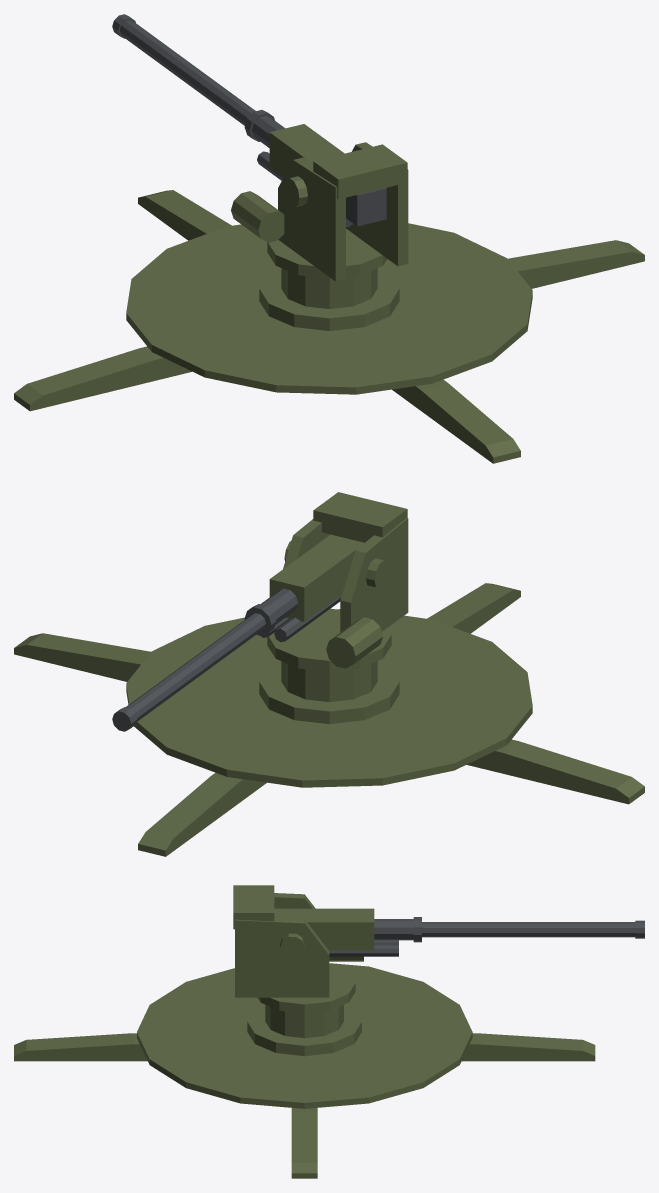
3 views of the same model, one above another, from view 1: azimuth 30°, elevation 25°; view 2: azimuth 150°, elevation 25°; view 3: azimuth 270°, elevation 25° (orthographic). The views are drawn at different scales.
Parts seen in each view (by area): view 1: M1_Platform, M1_Cheek_L, M1_Outrigger_L, M1_Outrigger_B, M1_Base, M1_Outrigger_R, M1_RearHousing, M1_Barrel_Tube, M1_Column, M1_Cheek_R, M1_Outrigger_F, M1_Turntable (+3 smaller); view 2: M1_Platform, M1_Outrigger_L, M1_Cheek_L, M1_Outrigger_F, M1_Cradle, M1_Base, M1_Outrigger_R, M1_Turntable, M1_RearHousing, M1_Barrel_Tube, M1_Column, M1_Outrigger_B (+5 smaller); view 3: M1_Platform, M1_Cheek_R, M1_Barrel_Tube, M1_Outrigger_F, M1_Outrigger_B, M1_Cradle, M1_Base, M1_Column, M1_Outrigger_R, M1_Turntable, M1_RearHousing, M1_Barrel_Jacket (+3 smaller).
Part boxes in pixels (x1,y1,x2,y2): M1_Platform: [126, 223, 532, 394]; M1_Cheek_L: [278, 157, 345, 281]; M1_Outrigger_L: [14, 346, 192, 411]; M1_Outrigger_B: [392, 379, 520, 463]; M1_Base: [259, 269, 399, 330]; M1_Outrigger_R: [508, 240, 644, 288]; M1_RearHousing: [313, 144, 407, 199]; M1_Barrel_Tube: [119, 20, 255, 125]; M1_Column: [281, 268, 377, 308]; M1_Cheek_R: [346, 142, 408, 266]; M1_Outrigger_F: [138, 190, 231, 240]; M1_Turntable: [267, 228, 387, 278]; M1_Platform: [126, 609, 532, 787]; M1_Outrigger_L: [466, 739, 644, 804]; M1_Cheek_L: [340, 518, 408, 632]; M1_Outrigger_F: [138, 772, 266, 856]; M1_Cradle: [269, 534, 364, 621]; M1_Base: [259, 662, 399, 723]; M1_Outrigger_R: [14, 633, 150, 681]; M1_Turntable: [267, 608, 391, 671]; M1_RearHousing: [313, 492, 407, 542]; M1_Barrel_Tube: [126, 613, 265, 721]; M1_Column: [281, 661, 377, 702]; M1_Outrigger_B: [427, 583, 520, 633]; M1_Platform: [137, 963, 472, 1108]; M1_Cheek_R: [235, 918, 329, 997]; M1_Barrel_Tube: [422, 922, 635, 937]; M1_Outrigger_F: [462, 1033, 595, 1061]; M1_Outrigger_B: [14, 1033, 147, 1061]; M1_Cradle: [274, 908, 374, 950]; M1_Base: [247, 1005, 361, 1056]; M1_Column: [265, 1005, 343, 1038]; M1_Outrigger_R: [291, 1108, 317, 1178]; M1_Turntable: [258, 964, 355, 1013]; M1_RearHousing: [233, 885, 274, 929]; M1_Barrel_Jacket: [374, 919, 413, 940].
Size of the model in its own units: 7.1 by 2.11 by 7.71.
